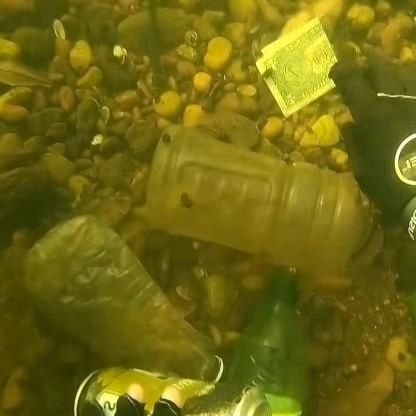can: (66, 368, 282, 416)
pbottle: (131, 117, 387, 284), (34, 227, 227, 395), (240, 271, 321, 416)
